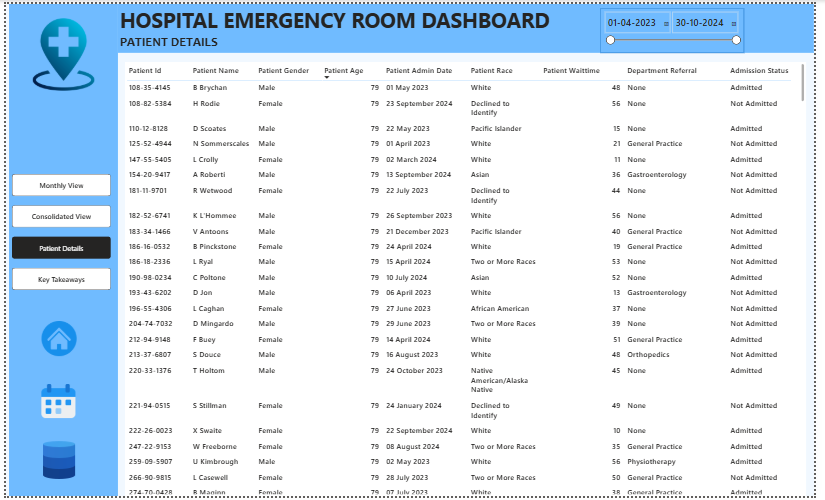

What the dashboard file says about the page in this screenshot:
{"tool":"powerbi","page":{"name":"Patient Details","canvas":[2300,1400],"ordinal":2},"visuals":[{"type":"shape","box":[9.1,0,310,1400.5],"z":0},{"type":"shape","box":[318.7,0,1980.5,139.4],"z":1000},{"type":"textbox","box":[319.9,0,1252.6,111.7],"z":2000},{"type":"textbox","box":[318.7,79.7,398.4,65.4],"z":3000},{"type":"slicer","fields":{"Values":["Date Table.Date"]},"box":[1690.2,11.4,409.8,128],"z":4000},{"type":"image","box":[59.8,34.1,207.7,219.1],"z":5000},{"type":"tableEx","fields":{"Values":["Hospital ER_Data.Patient Id","Hospital ER_Data.Patient Full Name","Hospital ER_Data.Patient Gender","Sum(Hospital ER_Data.Patient Age)","Hospital ER_Data.Patient Admin Date","Hospital ER_Data.Patient Race","Sum(Hospital ER_Data.Patient Waittime)","Hospital ER_Data.Department Referral","Hospital ER_Data.Admission Status"]},"box":[338.6,165,1937.8,1235],"z":6000},{"type":"pageNavigator","box":[17.1,483.7,281.7,332.9],"z":6001},{"type":"image","box":[17.1,902,267.5,99.6],"z":6002},{"type":"image","box":[25.6,1081.3,247.6,96.7],"z":6003},{"type":"image","box":[82.5,1220.7,136.6,153.7],"z":6004}]}

Visuals, with their boxes in screenshot pixels (x1, y1, x2, y2), scaled from the page's 2300x1400 canvas onto the 825x500 screenshot:
shape: box=[3, 0, 114, 499]
shape: box=[114, 0, 824, 50]
textbox: box=[115, 0, 564, 40]
textbox: box=[114, 28, 257, 52]
slicer - Date Table.Date: box=[606, 4, 753, 50]
image: box=[21, 12, 96, 90]
tableEx - Hospital ER_Data.Patient Id x Hospital ER_Data.Patient Full Name: box=[121, 59, 817, 499]
pageNavigator: box=[6, 173, 107, 292]
image: box=[6, 322, 102, 358]
image: box=[9, 386, 98, 421]
image: box=[30, 436, 79, 491]
